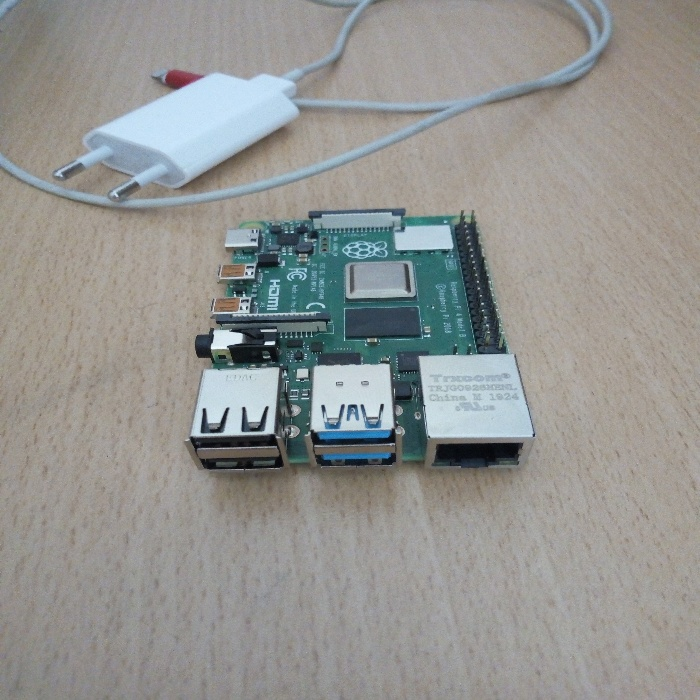raspberry: (179, 202, 545, 478)
